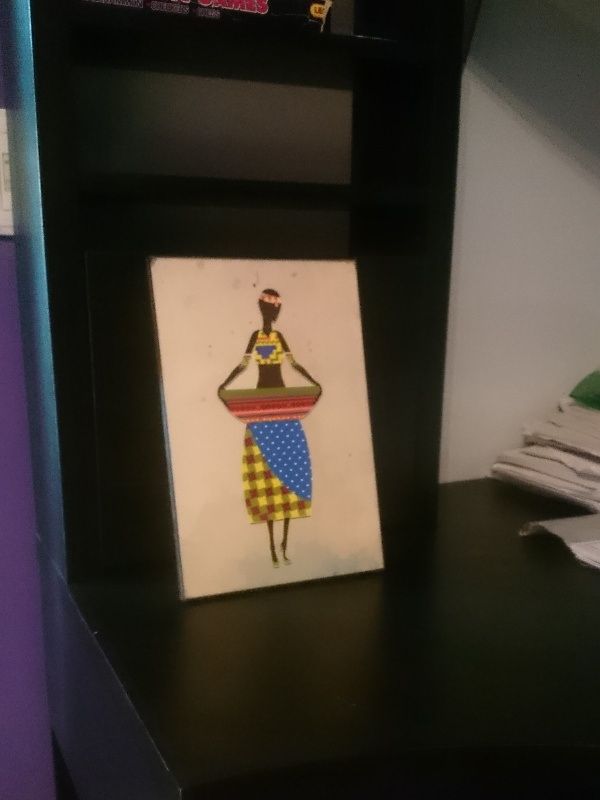my image: (151, 257, 382, 598)
